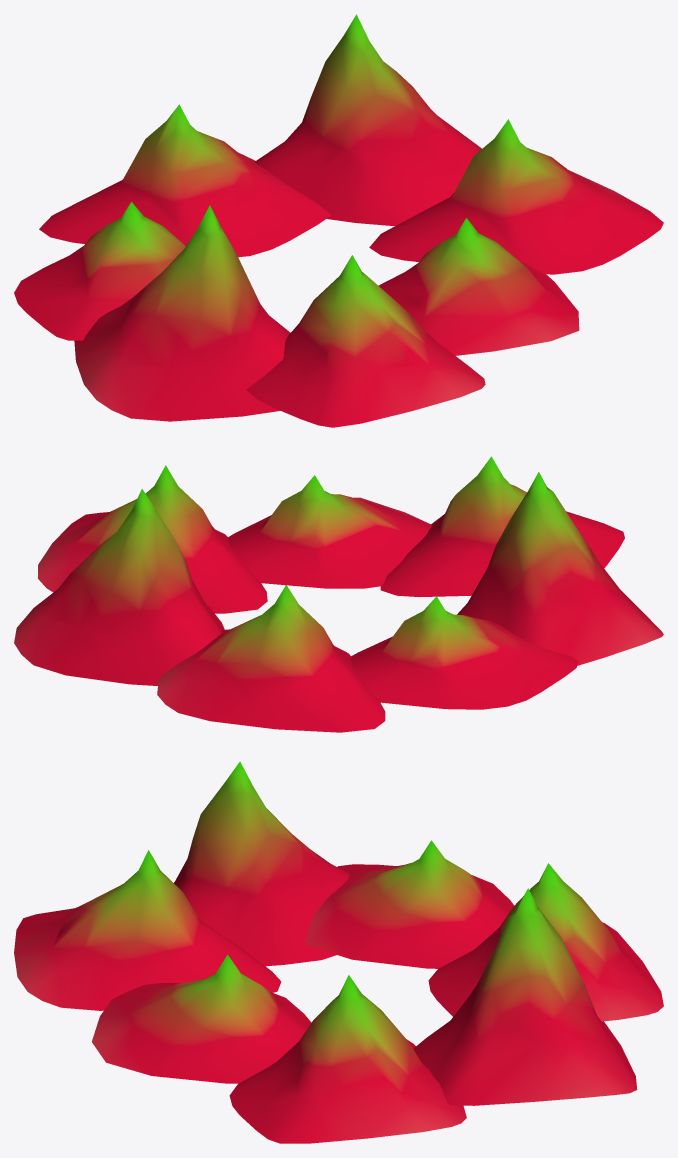
The model's file is Summit OOB Terrain.fbx.
3 views of the same model, one above another, from view 1: azimuth 30°, elevation 25°; view 2: azimuth 150°, elevation 25°; view 3: azimuth 270°, elevation 25° (orthographic). The views are drawn at different scales.
Parts seen in each view (by area): view 1: OOB Mountains; view 2: OOB Mountains; view 3: OOB Mountains.
Part boxes in pixels (x1,y1,x2,y2): OOB Mountains: (14,14,663,427); OOB Mountains: (14,456,663,732); OOB Mountains: (14,761,663,1143).
Size of the model in its own units: 148246 by 44099 by 138284.
